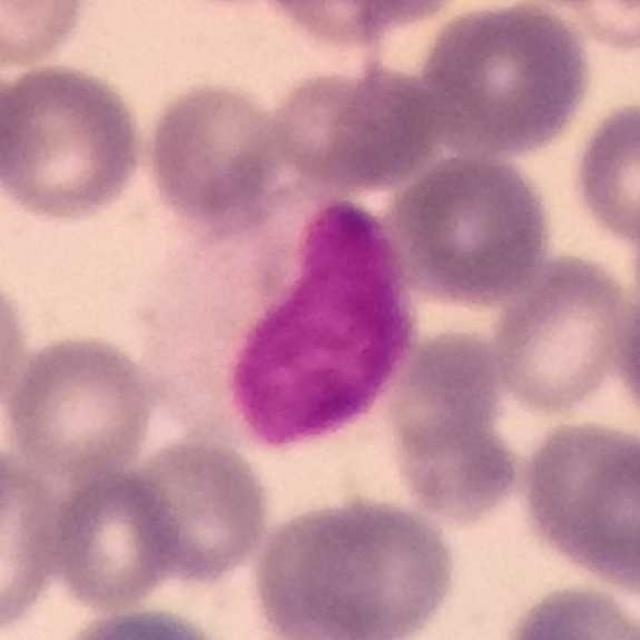Monocyte: (143, 185, 427, 459)
RBC: (248, 489, 465, 640), (415, 0, 598, 159), (385, 148, 558, 305), (486, 250, 638, 422), (383, 351, 525, 528), (0, 57, 148, 226), (263, 60, 443, 197), (139, 74, 291, 235), (1, 328, 159, 481), (122, 434, 275, 587), (514, 413, 639, 594), (39, 465, 185, 612), (0, 447, 65, 636), (566, 95, 640, 252), (255, 0, 468, 49), (496, 579, 640, 640), (0, 0, 99, 72), (50, 602, 235, 640), (608, 246, 639, 446), (532, 0, 640, 56), (0, 256, 33, 424)
